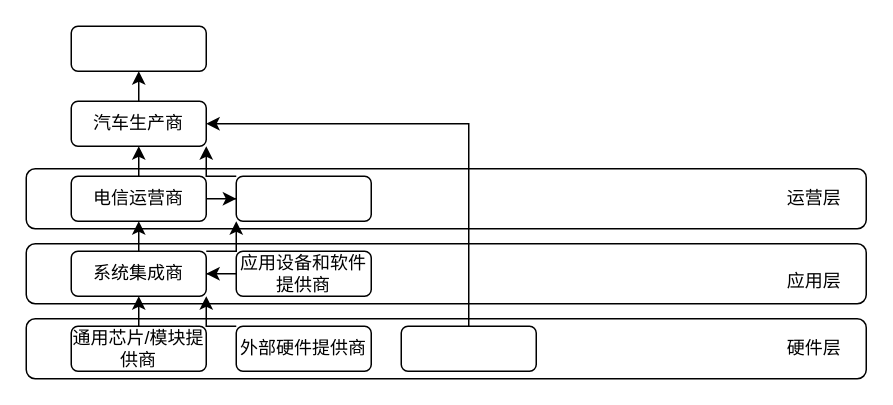
This 893x405 diagram has some shape labels left out. Each missing label, with the centre of its shape:
"RFID及传感器提供商" belongs at point (468, 348).
"服务提供商TSP" belongs at point (303, 198).
"用户" belongs at point (138, 48).
